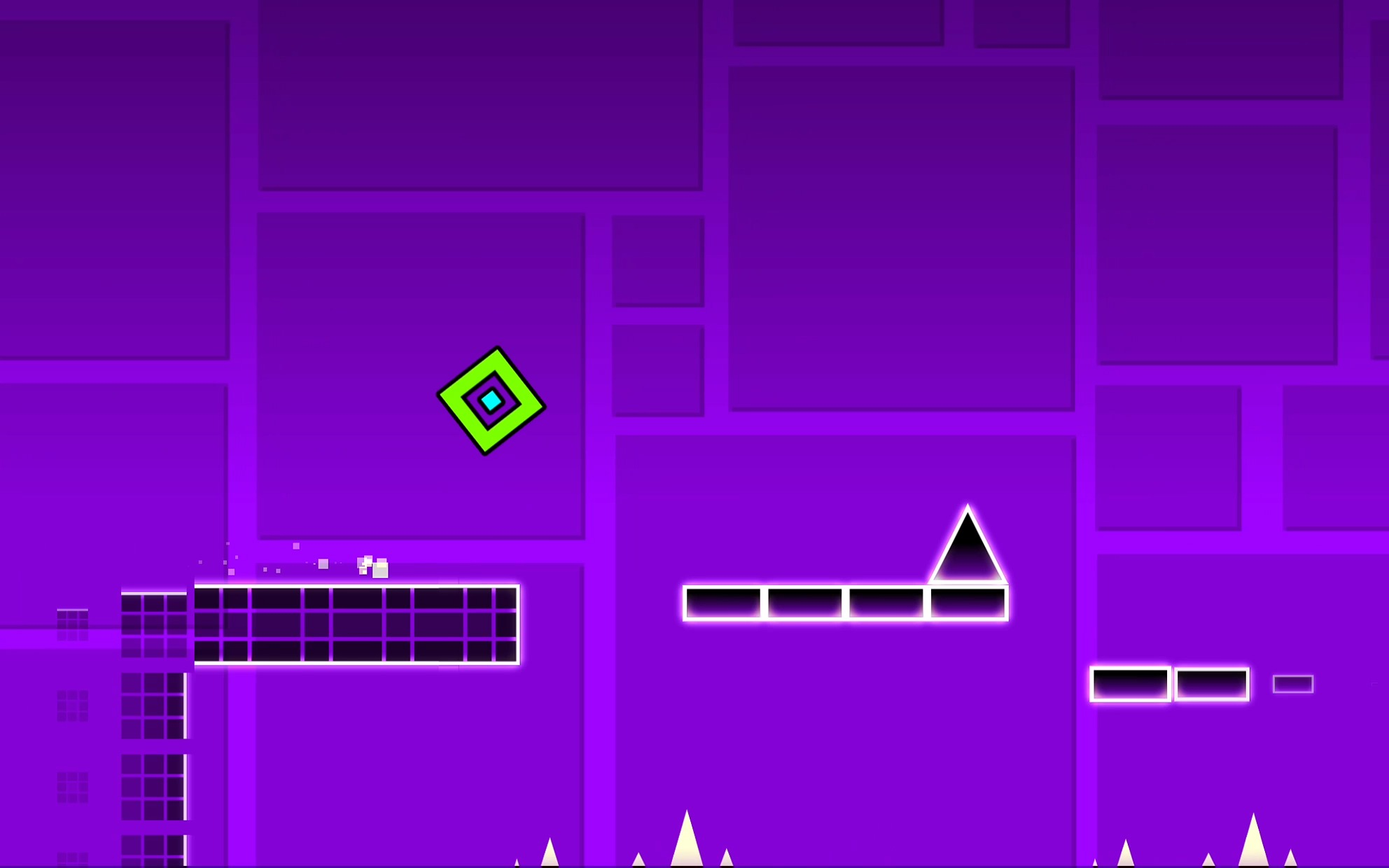Block2: (195, 587, 516, 660), (115, 588, 195, 868)
Block3: (1170, 669, 1252, 709), (1080, 667, 1170, 701), (683, 585, 767, 621), (853, 583, 926, 622), (925, 584, 1005, 619), (768, 584, 844, 619)
Player: (436, 346, 545, 454)
Spike: (928, 505, 1007, 581)
